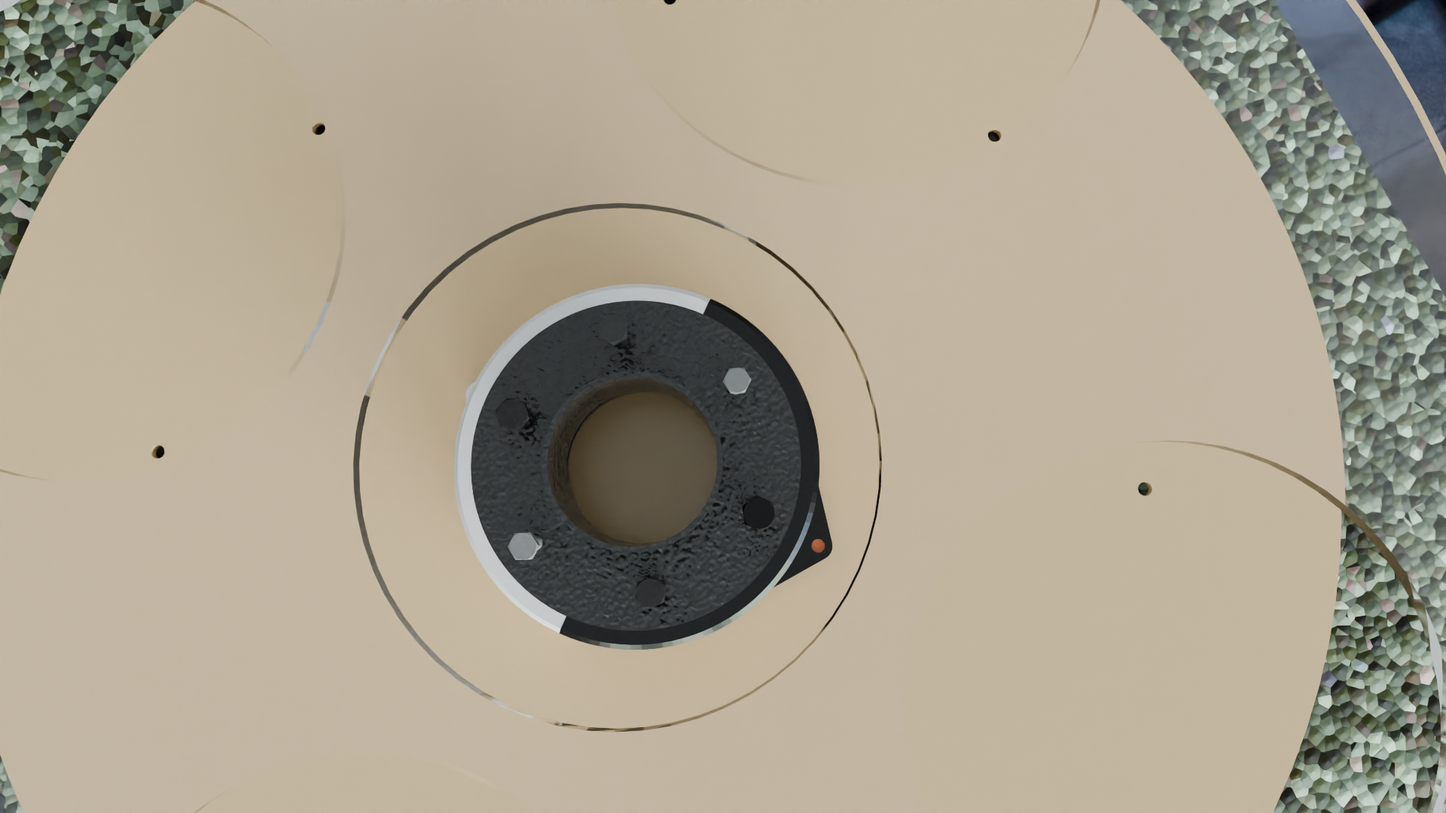bolt: (743, 495, 776, 531), (495, 398, 529, 431), (636, 577, 666, 609), (599, 312, 627, 344), (508, 532, 538, 560), (723, 367, 752, 393)
